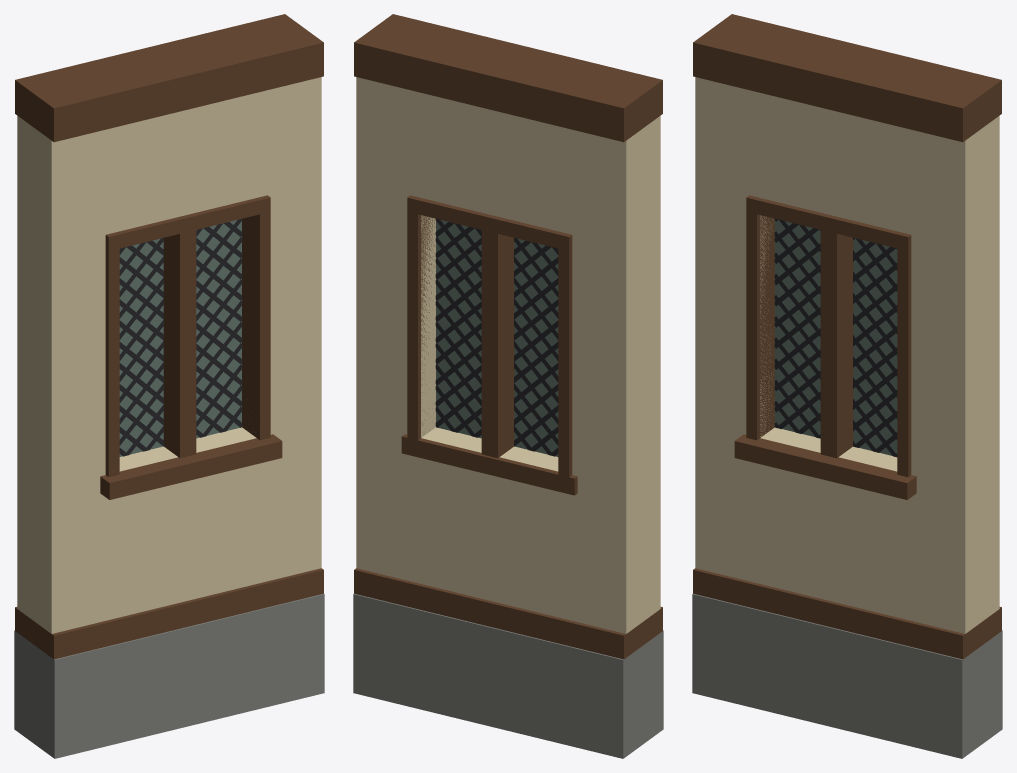
Rendered from WallLeaded.fbx.
The picture shows the model from 3 angles, left to right: view 1: azimuth 30°, elevation 25°; view 2: azimuth 150°, elevation 25°; view 3: azimuth 330°, elevation 25°; orthographic projection.
Visible parts, largest first — view 1: Kit_WallLeaded; view 2: Kit_WallLeaded; view 3: Kit_WallLeaded.
Part boxes in pixels (box(x1,y1,x2,y2)): Kit_WallLeaded: box(14, 14, 324, 758); Kit_WallLeaded: box(353, 14, 663, 758); Kit_WallLeaded: box(692, 14, 1002, 758).
Bounding box in the file's own units: 1 × 2.3 × 0.3.
